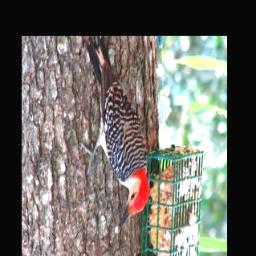Woodpecker: (77, 38, 149, 233)
